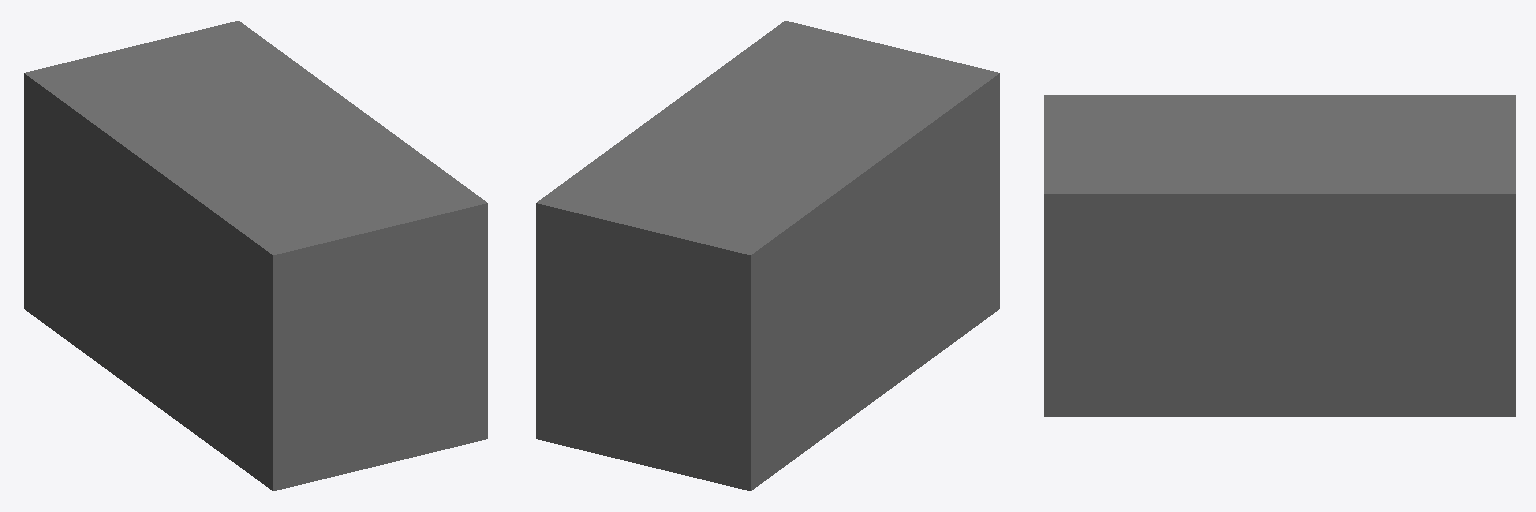
The robot description file, URDF, robot "table_wooden.urdf":
<?xml version="1.0" ?>
<robot name="table_wooden.urdf">
  <link name="table_wooden_link">
    <contact>
      <lateral_friction value="0.5"/>
      <inertia_scaling value="1.0"/>
    </contact>
    <inertial>
      <origin rpy="0 0 0" xyz="0 0 0"/>
       <mass value="50"/>
       <inertia ixx="1" ixy="0" ixz="0" iyy="1" iyz="0" izz="1"/>
    </inertial>
    <visual>
      <origin rpy="0 0 0" xyz="0 0 0"/>
      <geometry>
        <box size="0.90805 1.825 0.9525"/>
      </geometry>
       <material name="white">
        <color rgba="0.5 0.5 0.5 1"/>
      </material>
    </visual>
    <collision>
      <origin rpy="0 0 0" xyz="0 0 0"/>
      <geometry>
        <box size="0.90805 1.825 0.9525"/>
      </geometry>
    </collision>
  </link>
  <joint name="table_wooden_joint" type="fixed">
    <parent link="world"/>
    <child link="table_wooden_link"/>
    <origin rpy="0 0 0" xyz="0 0 0"/>
  </joint>
  <link name="world">
    <inertial>
      <origin rpy="0 0 0" xyz="0 0 0"/>
      <mass value="0.0"/>
      <inertia ixx="0.001" ixy="0.0" ixz="0.0" iyy="0.001" iyz="0.0" izz="0.001"/>
    </inertial>
  </link>
</robot>

--- What the picture shows (computed from the rendered views, not written in the file) ---
The picture shows the robot from 3 angles, left to right: view 1: azimuth 30°, elevation 25°; view 2: azimuth 150°, elevation 25°; view 3: azimuth 270°, elevation 25°; orthographic projection.
Robot: table_wooden.urdf — 2 links, 1 joints (1 fixed); root link world; default pose: every joint at zero.
Links seen in each view (by area): view 1: table_wooden_link; view 2: table_wooden_link; view 3: table_wooden_link.
Link boxes in pixels (x1,y1,x2,y2): table_wooden_link: (24,21,487,490); table_wooden_link: (536,21,999,490); table_wooden_link: (1044,95,1515,416).
Bounding box of the posed robot: 0.9081 × 1.82 × 0.9525 m (x, y, z).
Geometry: primitives only (box / cylinder / sphere), no mesh files.